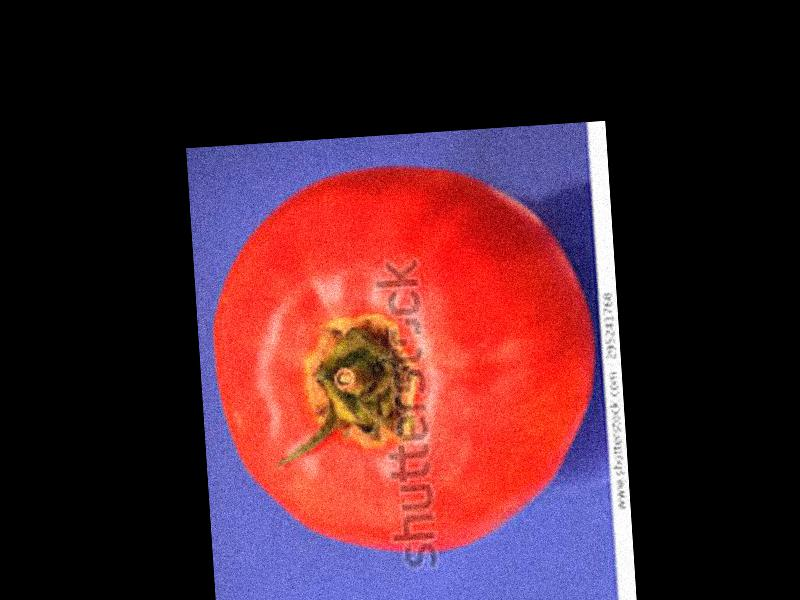Tomato: (203, 153, 599, 565)
